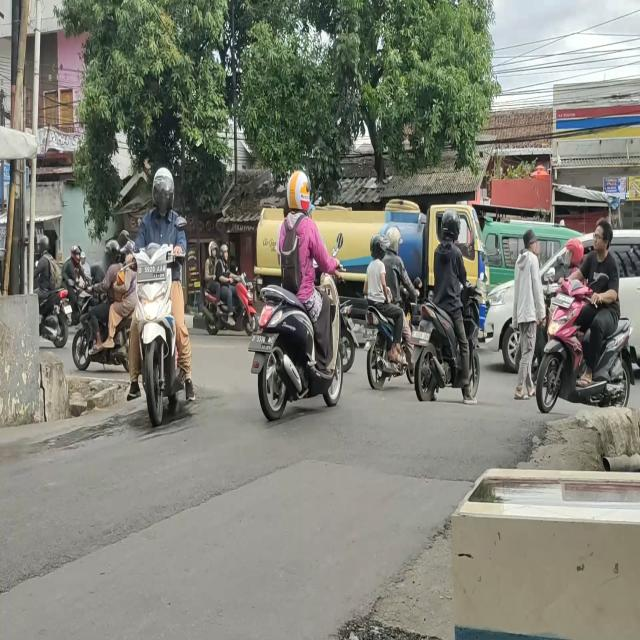helmet: (154, 167, 176, 211), (439, 208, 462, 242), (289, 172, 308, 213), (369, 232, 386, 259), (386, 227, 400, 252)
no-helmet: (592, 222, 612, 254)
